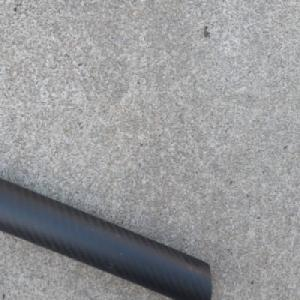LuggagePart: (0, 176, 212, 300)
